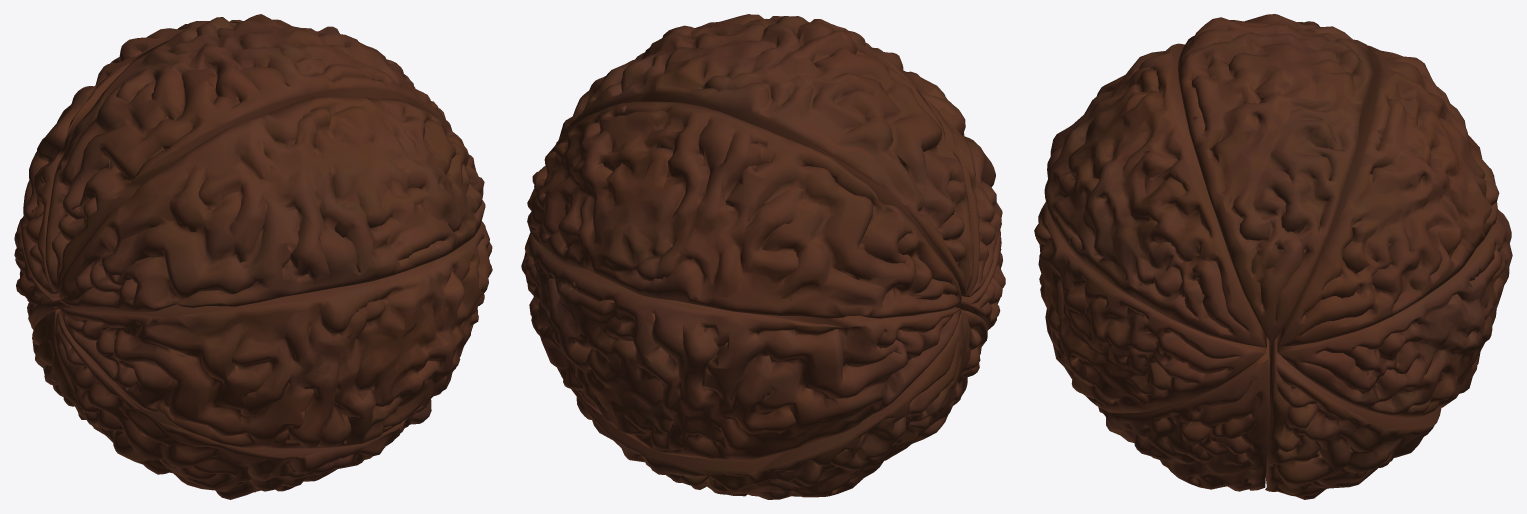
File: rudraksh.glb
3 renders of one model, left to right at view 1: azimuth 30°, elevation 25°; view 2: azimuth 150°, elevation 25°; view 3: azimuth 270°, elevation 25°, orthographic.
Parts seen in each view (by area): view 1: Sphere003_0; view 2: Sphere003_0; view 3: Sphere003_0.
Part boxes in pixels (x1,y1,x2,y2): Sphere003_0: (14, 14, 492, 499); Sphere003_0: (521, 14, 1005, 499); Sphere003_0: (1034, 14, 1512, 499).
Size of the model in its own units: 5.25 by 5.48 by 5.42.
Materials: 1 (1 with a texture image).
